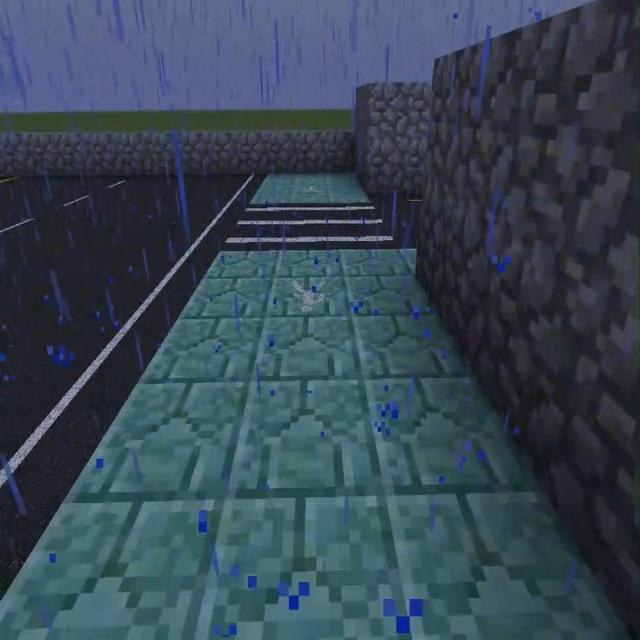8: (227, 204, 394, 244)
crosswalk: (1, 175, 259, 588), (372, 193, 425, 245)
road: (0, 247, 634, 639), (250, 172, 372, 205)
